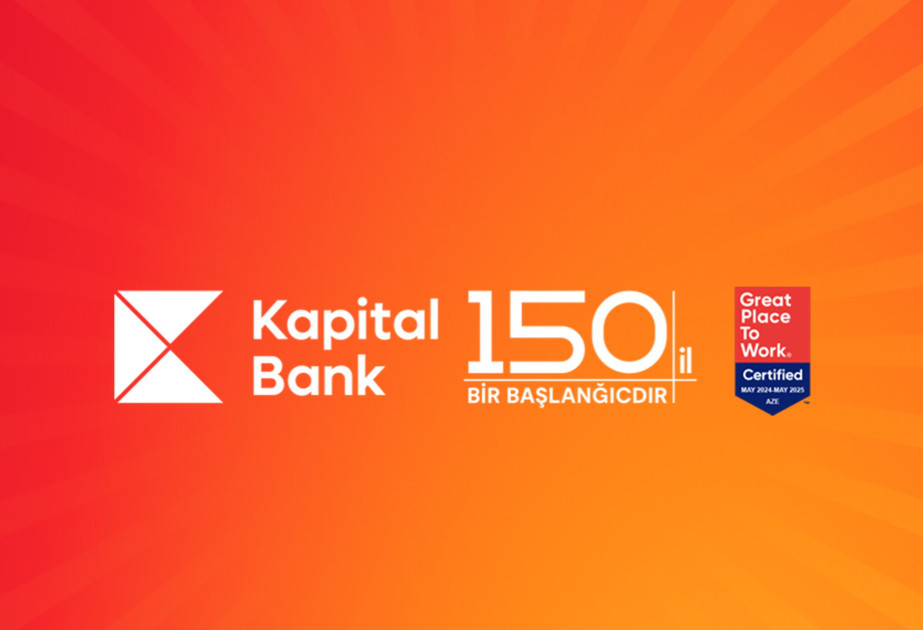Kapital Bank: (109, 287, 225, 407)
